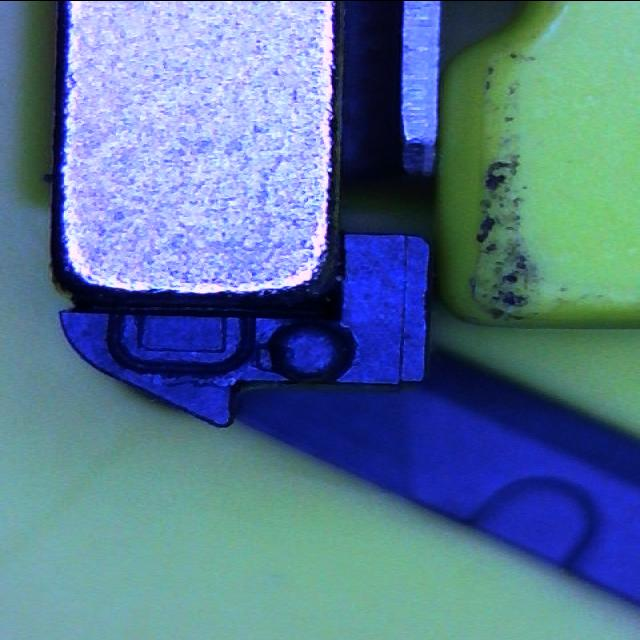lacking: (104, 305, 258, 377)
